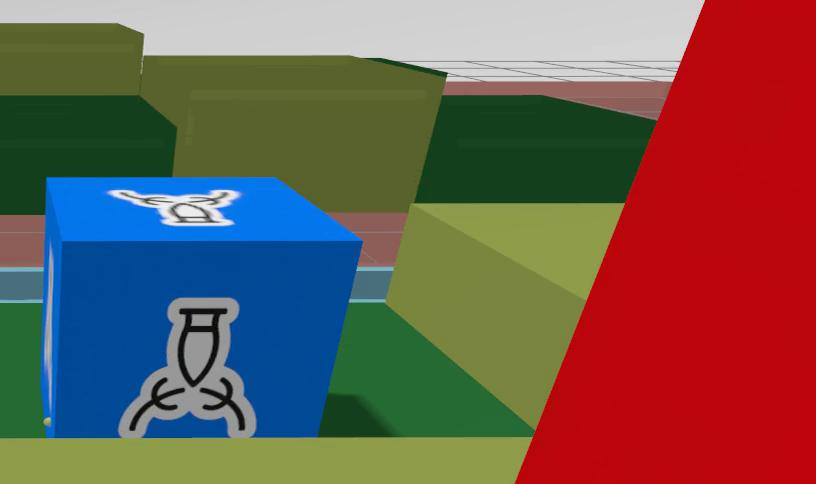KFS_FAKE: (514, 0, 815, 484)
KFS_REAL: (40, 178, 361, 439), (119, 297, 257, 438), (108, 189, 239, 225)
